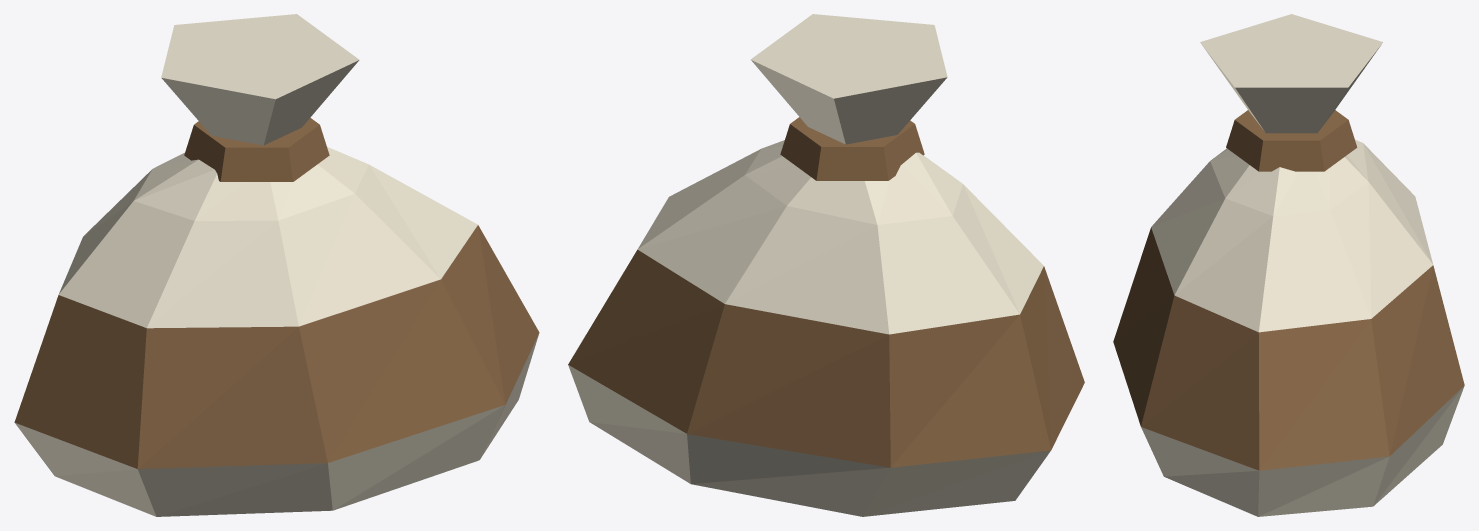
The model's file is work-sack-flour.glb.
3 renders of one model, left to right at view 1: azimuth 30°, elevation 25°; view 2: azimuth 150°, elevation 25°; view 3: azimuth 270°, elevation 25°, orthographic. The views are drawn at different scales.
Visible parts, largest first — view 1: work-sack-flour; view 2: work-sack-flour; view 3: work-sack-flour.
Part boxes in pixels (x1,y1,x2,y2): work-sack-flour: (14, 14, 539, 516); work-sack-flour: (568, 14, 1084, 516); work-sack-flour: (1113, 14, 1464, 516).
Size of the model in its own units: 1.16 by 0.89 by 0.8022.
1 material, 1 textured.
